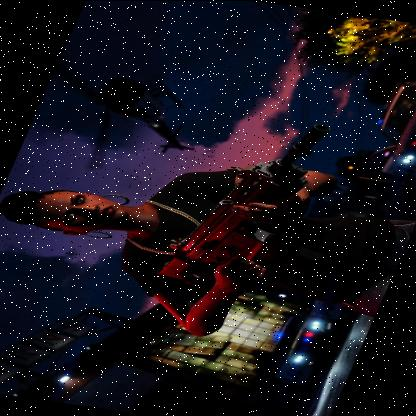rifle: (149, 106, 377, 298)
